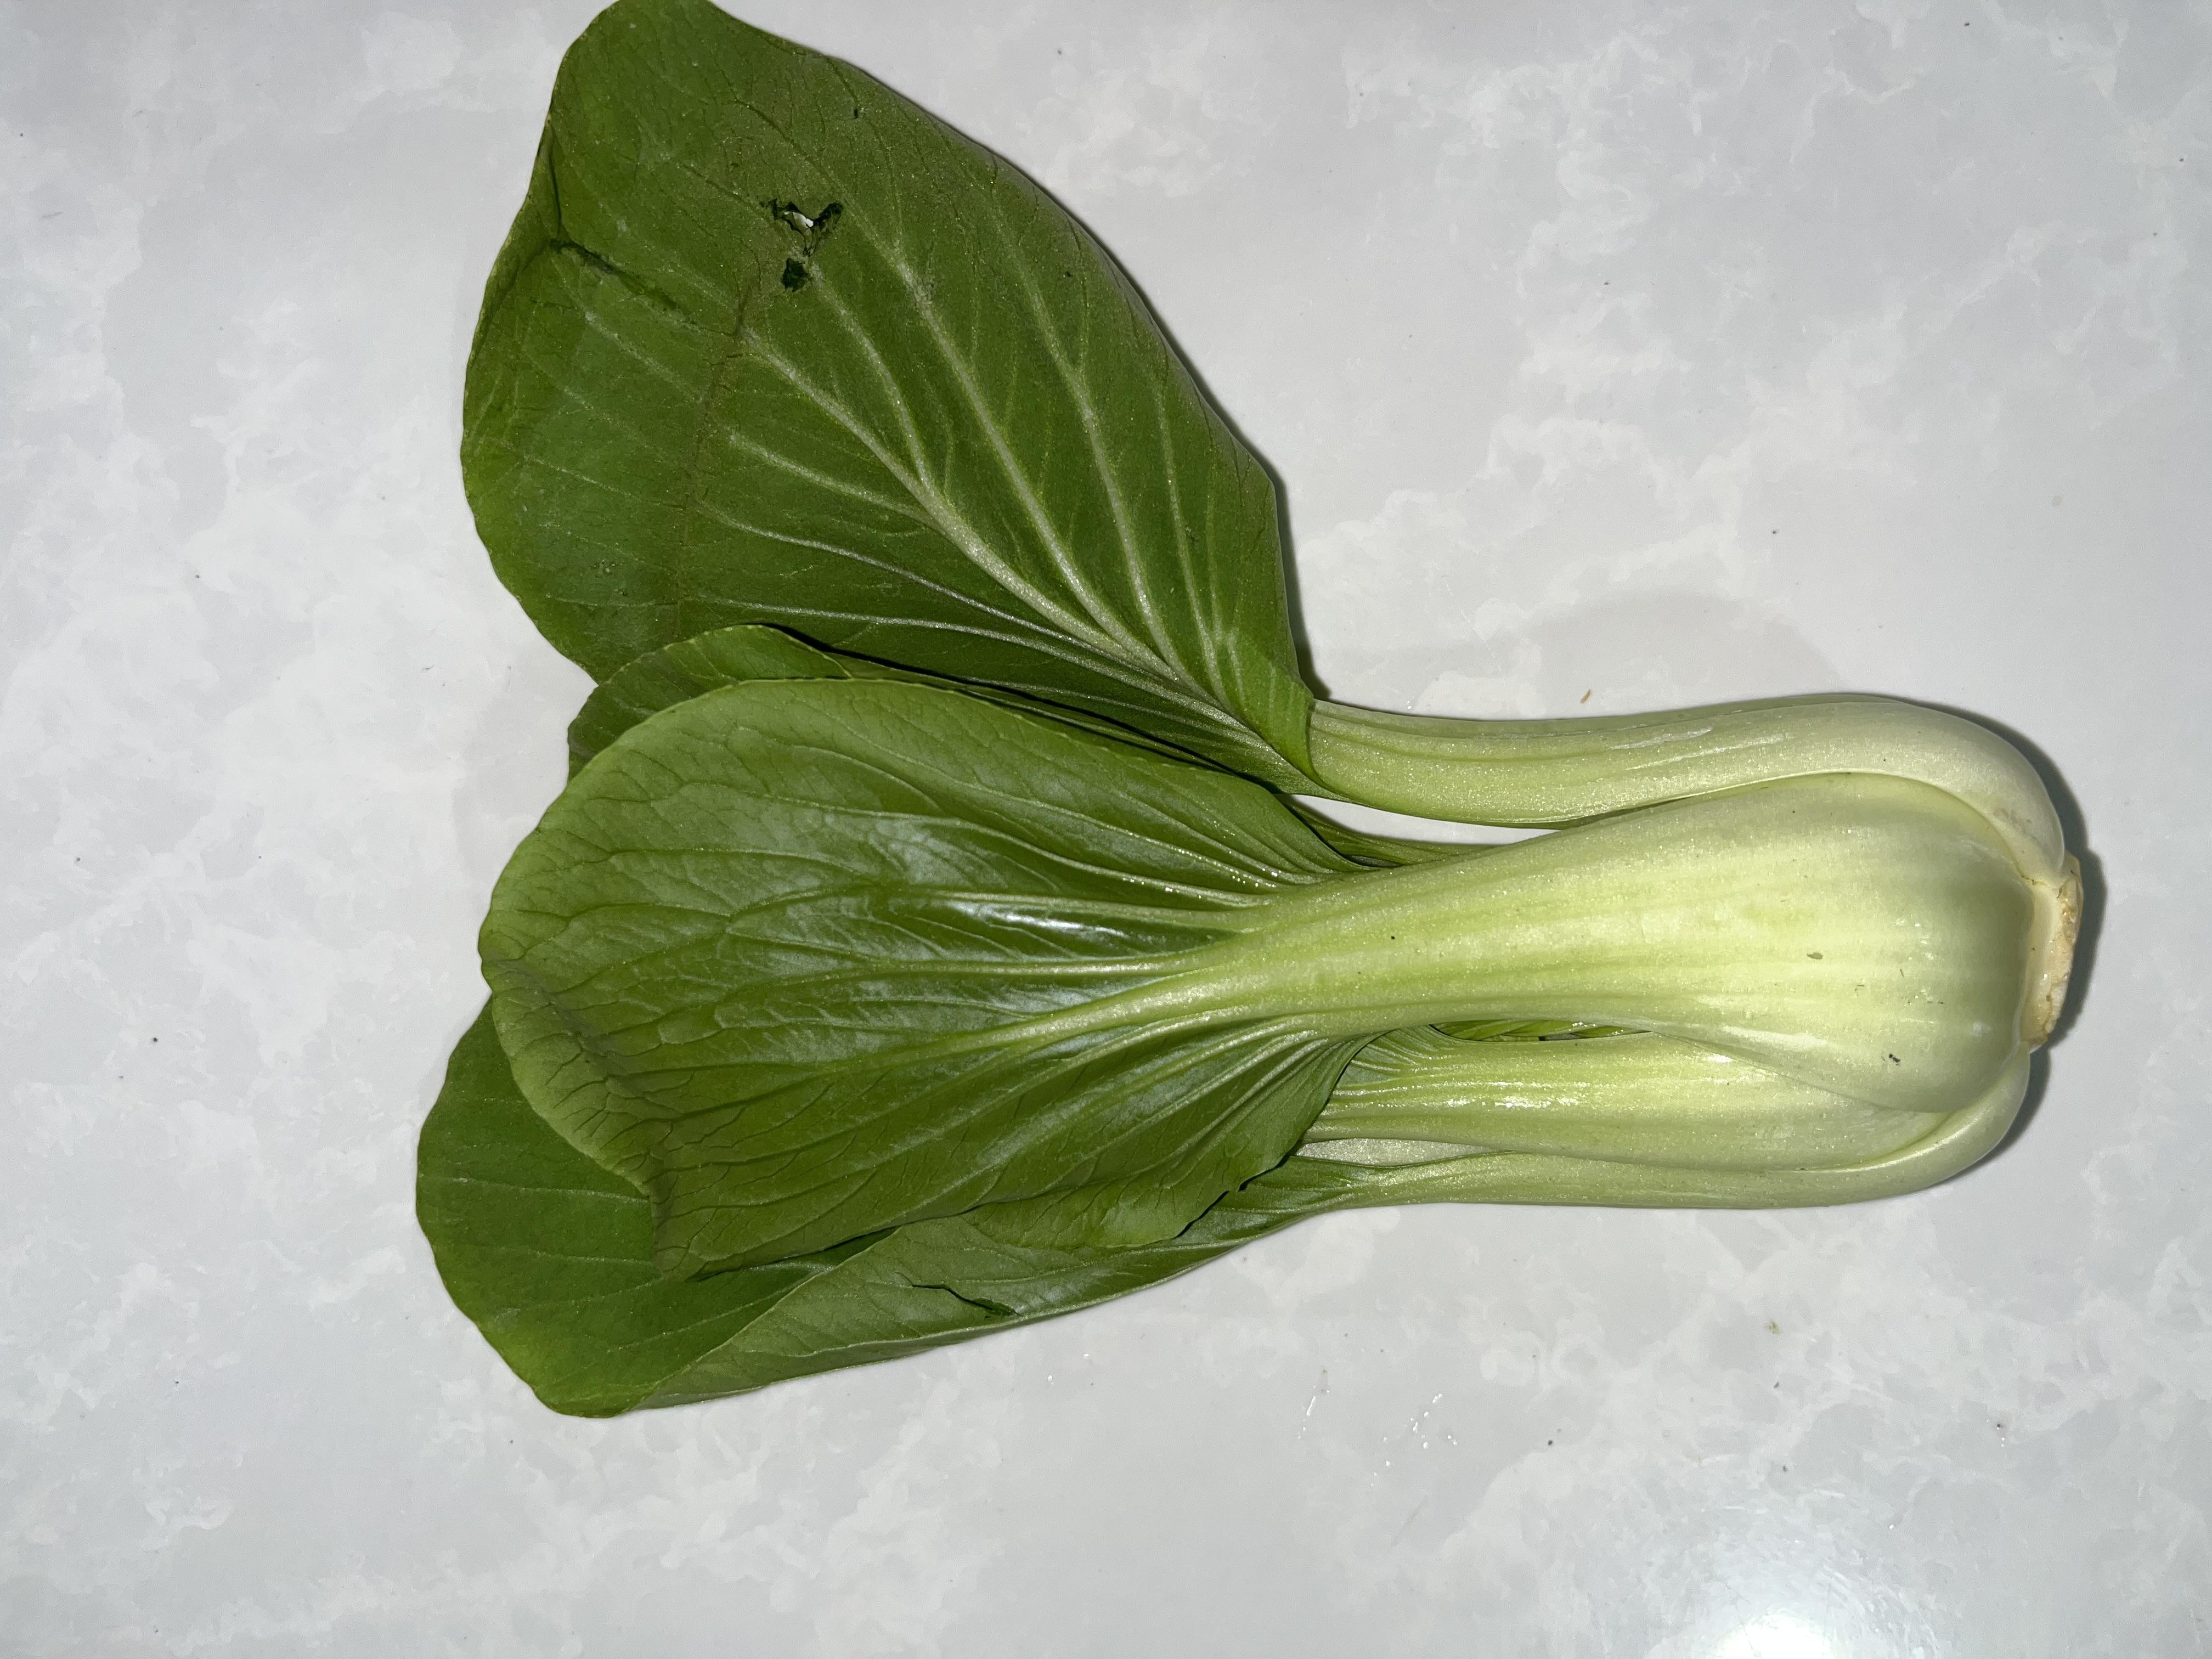Healthy-Pechay: (273, 105, 2189, 1471)
